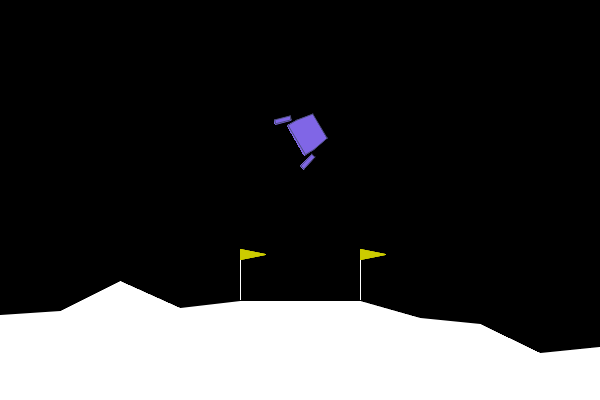lander: (272, 100, 337, 172)
